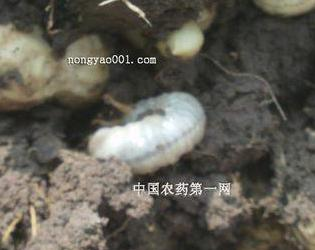grub: (89, 84, 208, 172)
